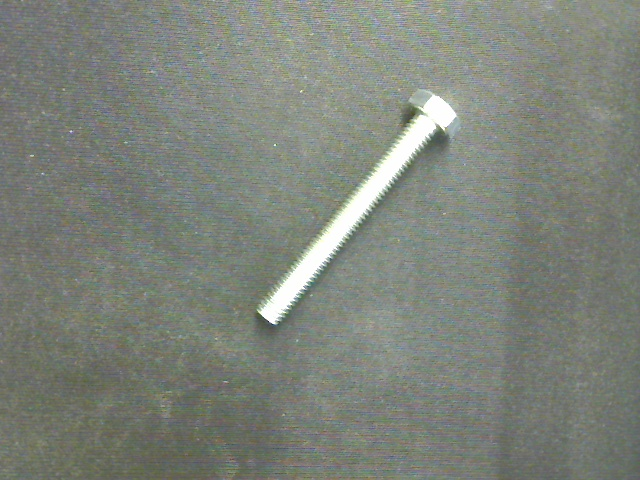Screw: (255, 88, 459, 324)
